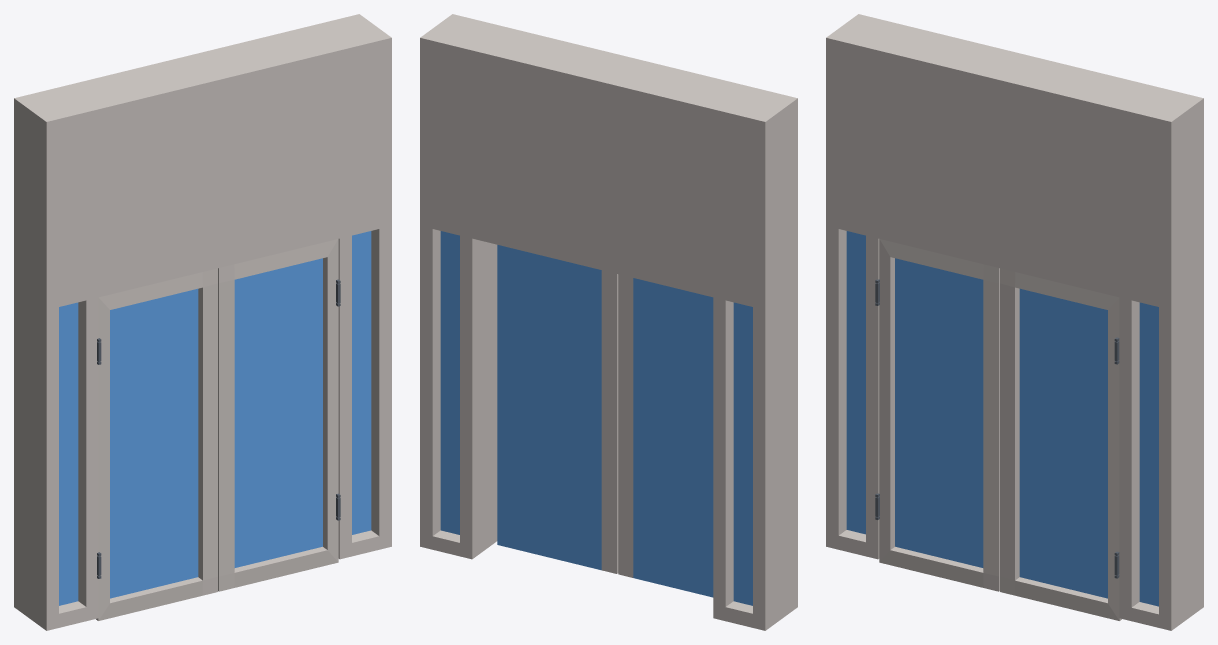
File: exit door.fbx
3 views of the same model, side by side, from view 1: azimuth 30°, elevation 25°; view 2: azimuth 150°, elevation 25°; view 3: azimuth 330°, elevation 25° (orthographic).
Parts seen in each view (by area): view 1: Cube, door frame, door right, door left, Cube.002; view 2: Cube, door frame, door right, door left; view 3: Cube, door frame, door left, door right, Cube.002.
Part boxes in pixels (x1,y1,x2,y2): Cube: [14, 14, 391, 298]; door frame: [14, 214, 391, 630]; door right: [218, 239, 338, 591]; door left: [96, 268, 217, 620]; Cube.002: [97, 279, 340, 578]; Cube: [420, 14, 797, 298]; door frame: [420, 214, 797, 630]; door right: [497, 245, 618, 573]; door left: [618, 274, 713, 597]; Cube: [826, 14, 1203, 298]; door frame: [826, 214, 1203, 630]; door left: [879, 239, 999, 591]; door right: [1000, 268, 1121, 620]; Cube.002: [875, 279, 1119, 578].
Size of the model in its own units: 167 by 236 by 28.27.
